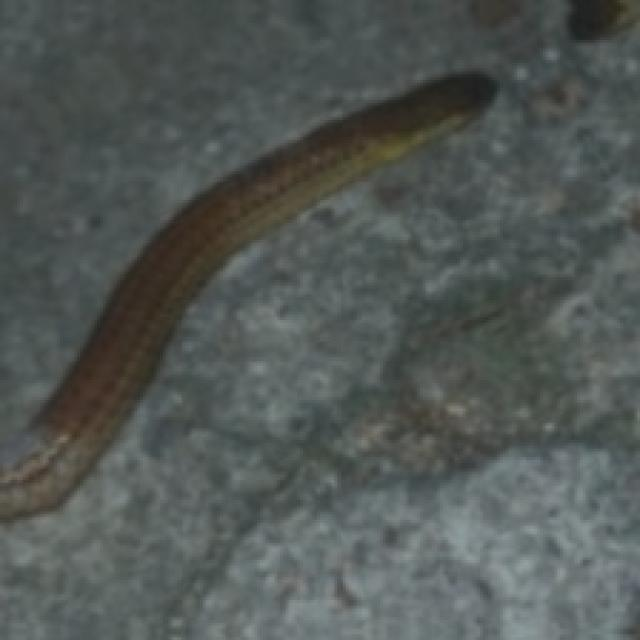gervais worm snake: (0, 71, 494, 520), (0, 71, 494, 517)
